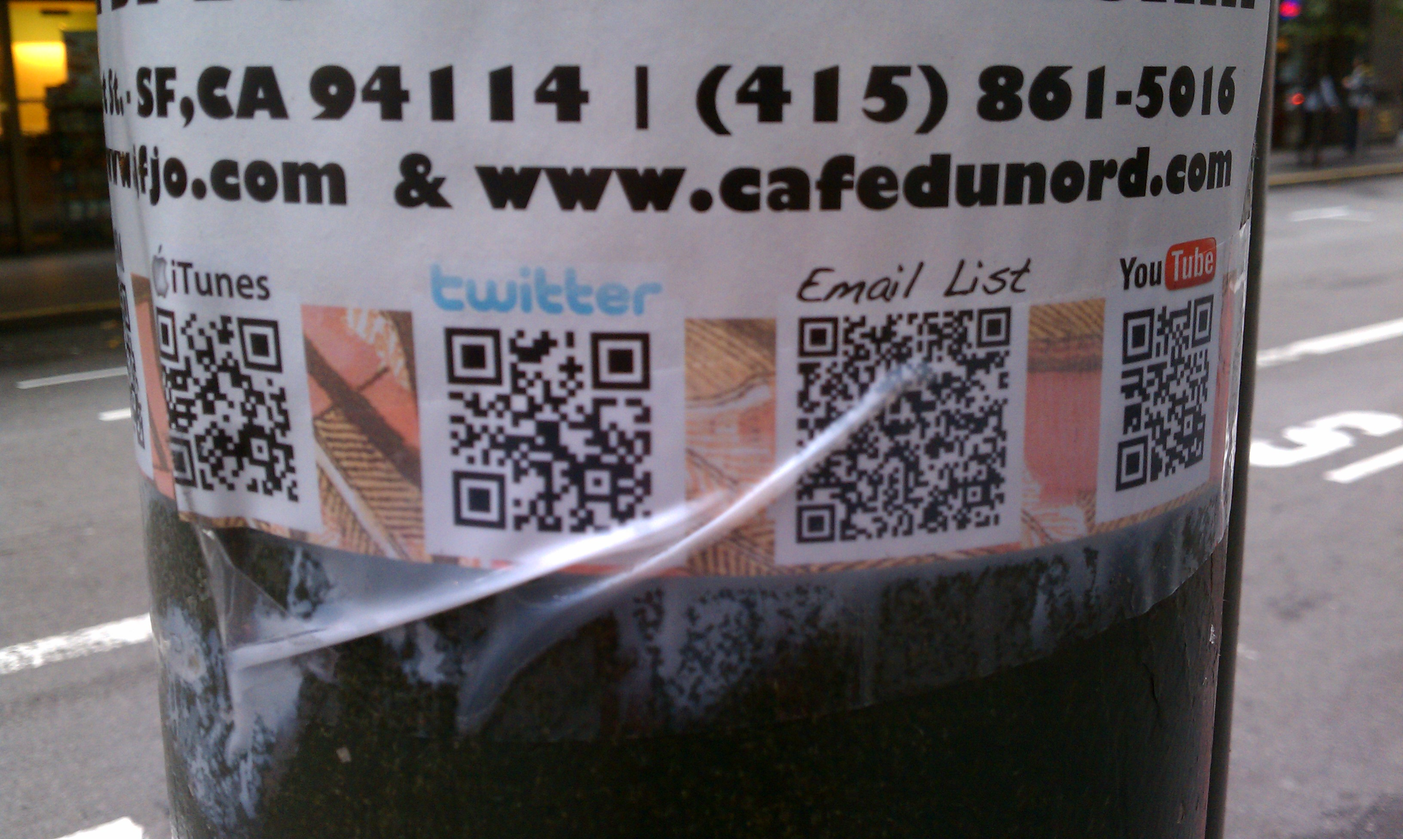QR-CODE: (796, 306, 1011, 544), (444, 326, 651, 535), (156, 306, 299, 503), (1115, 294, 1214, 492)
